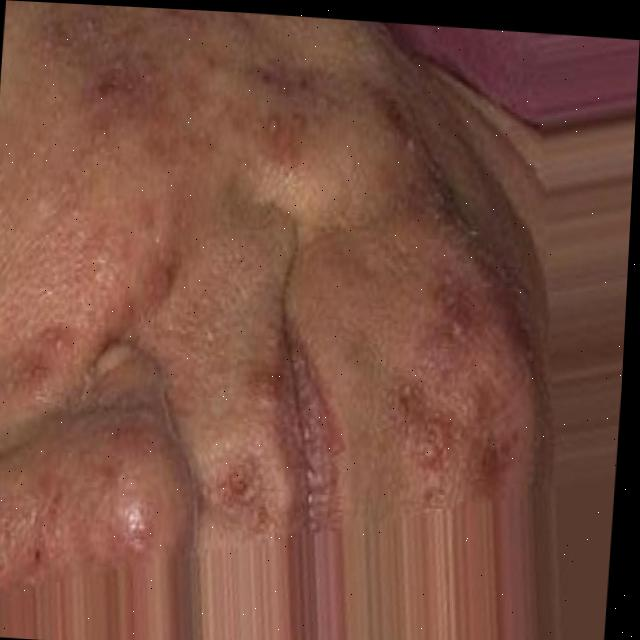Rosacea: (396, 325, 534, 520), (51, 4, 226, 124), (213, 469, 276, 525)
